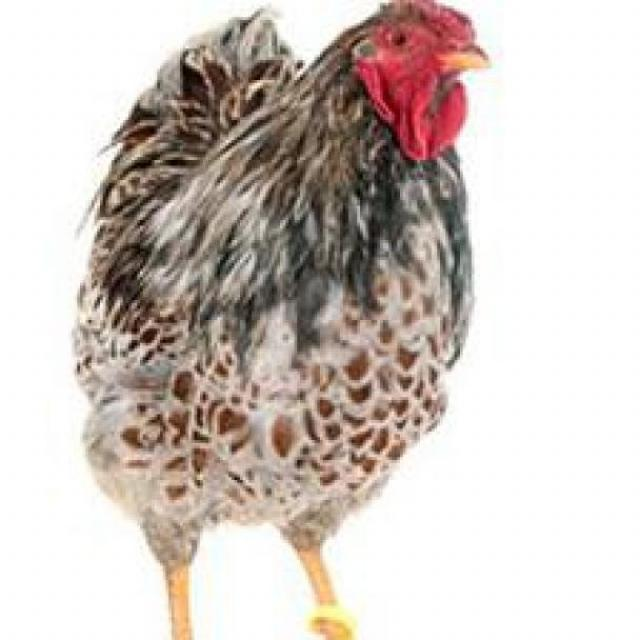Chicken: (78, 0, 500, 640)
